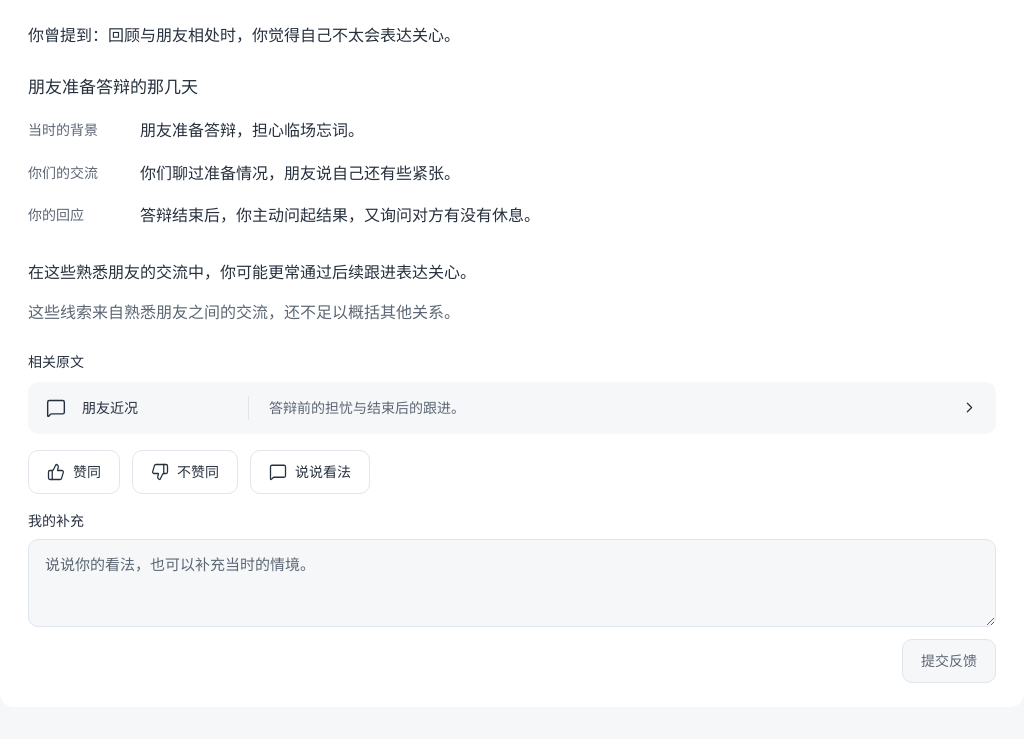
个人总览 › 模拟回执明确未保存，后续分析状态与保存反馈分开
The image size is (1024, 739).
(page scrolled)
What coordinates should you click on to do the following:
click the button "赞同"
I would click on:
 (74, 472)
Its box is [28,450,120,494].
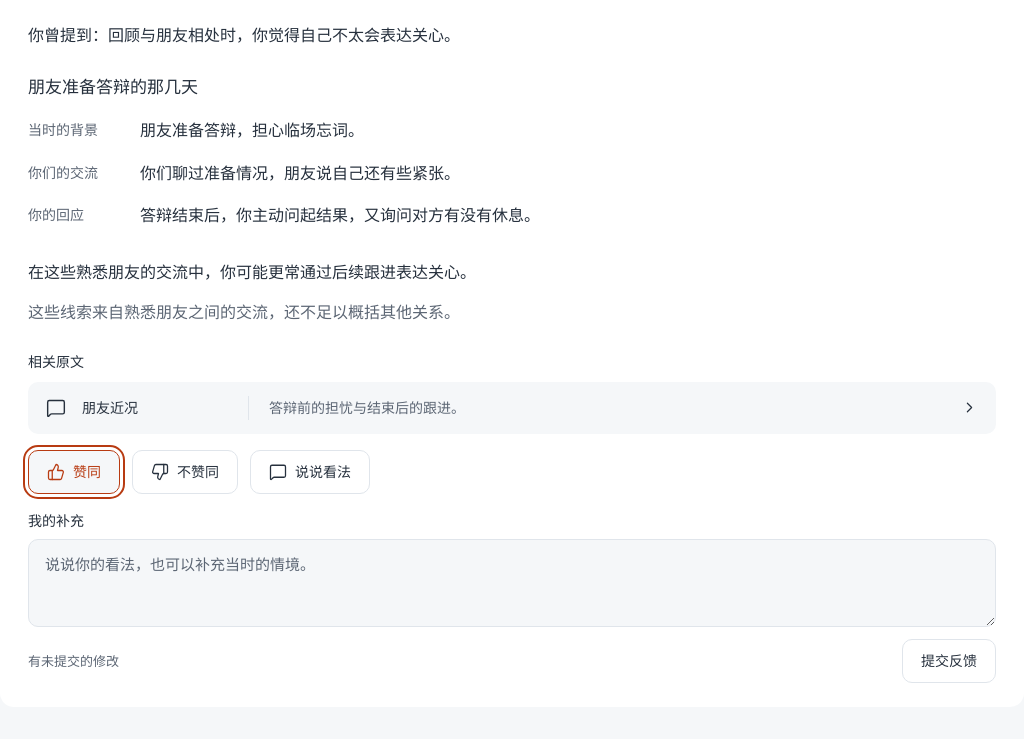
What coordinates should you click on to do the following:
click the button "提交反馈"
I would click on:
 (949, 661)
Its box is [902,639,996,683].
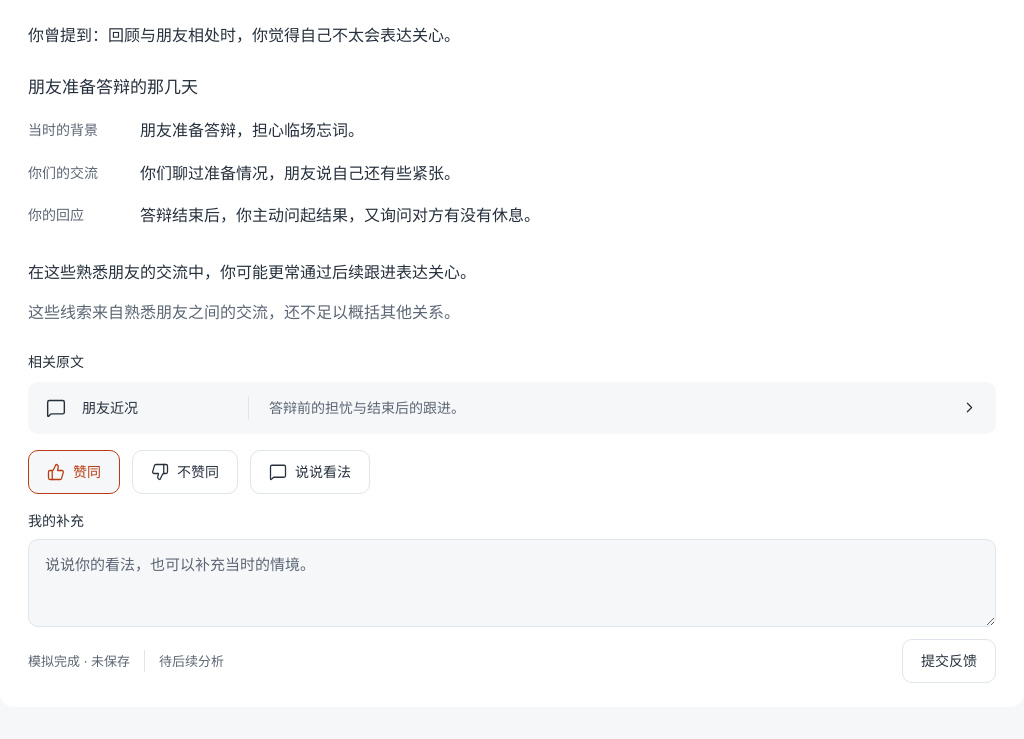
expect the text "模拟完成 · 未保存" is shown: met, box [28,650,130,672]
expect the text "待后续分析" is shown: met, box [144,650,224,672]
